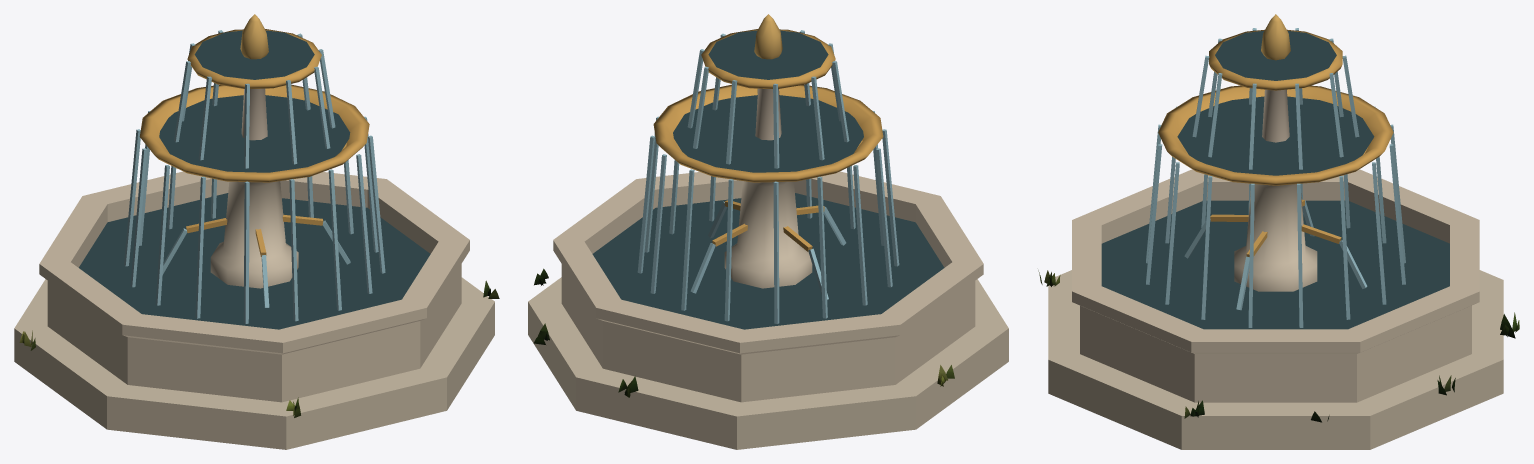
File: fuente_plaza.glb
The picture shows the model from 3 angles, left to right: view 1: azimuth 30°, elevation 25°; view 2: azimuth 150°, elevation 25°; view 3: azimuth 270°, elevation 25°; orthographic projection.
Parts seen in each view (by area): view 1: fuente_plaza_fijo, fuente_plaza_vegetacion; view 2: fuente_plaza_fijo, fuente_plaza_vegetacion; view 3: fuente_plaza_fijo, fuente_plaza_vegetacion.
Boxes of the visible parts, x1,y1,x2,y2 form: fuente_plaza_fijo: (14, 14, 494, 449); fuente_plaza_vegetacion: (19, 280, 499, 417); fuente_plaza_fijo: (528, 14, 1008, 449); fuente_plaza_vegetacion: (534, 268, 954, 397); fuente_plaza_fijo: (1048, 14, 1503, 449); fuente_plaza_vegetacion: (1038, 270, 1519, 422).
Size of the model in its own units: 4.53 by 3.5 by 4.51.
